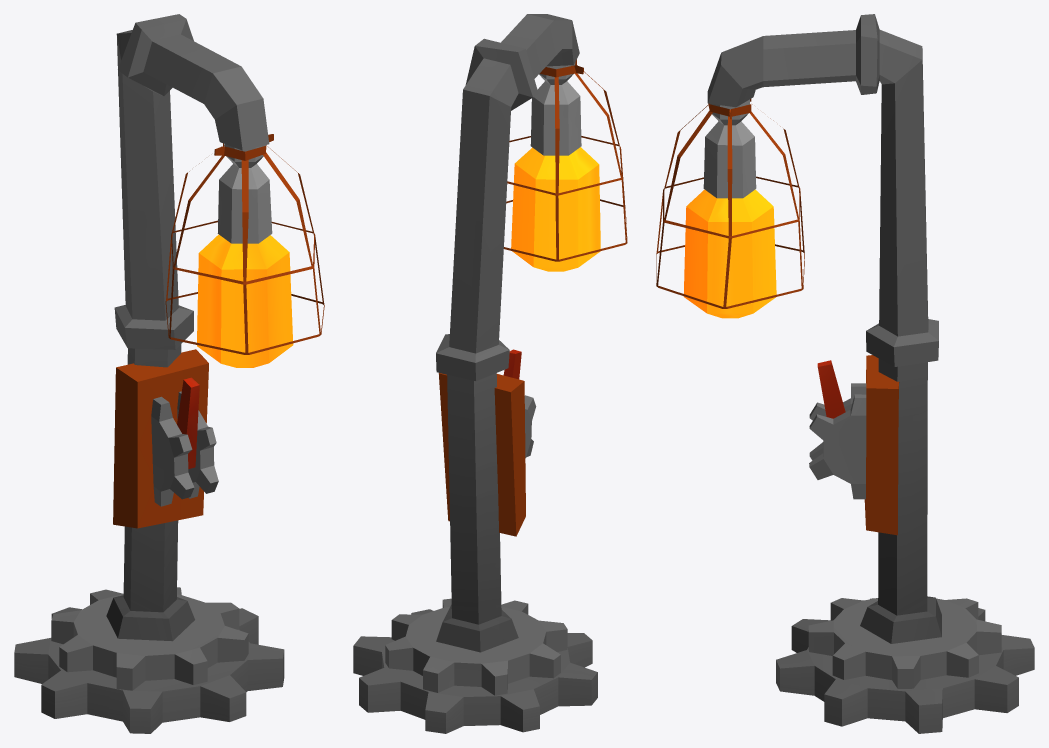
File: Table Lamp.glb
The picture shows the model from 3 angles, left to right: view 1: azimuth 30°, elevation 25°; view 2: azimuth 150°, elevation 25°; view 3: azimuth 270°, elevation 25°; orthographic projection. The views are drawn at different scales.
Visible parts, largest first — view 1: TableLamp; view 2: TableLamp; view 3: TableLamp.
Boxes of the visible parts, <box> form: TableLamp: <box>14,14,324,733</box>; TableLamp: <box>353,14,627,733</box>; TableLamp: <box>656,14,1034,733</box>.
Size of what is drawn, in the model's own units: 0.4032 by 1.12 by 0.5897.
1 material, 1 textured.
